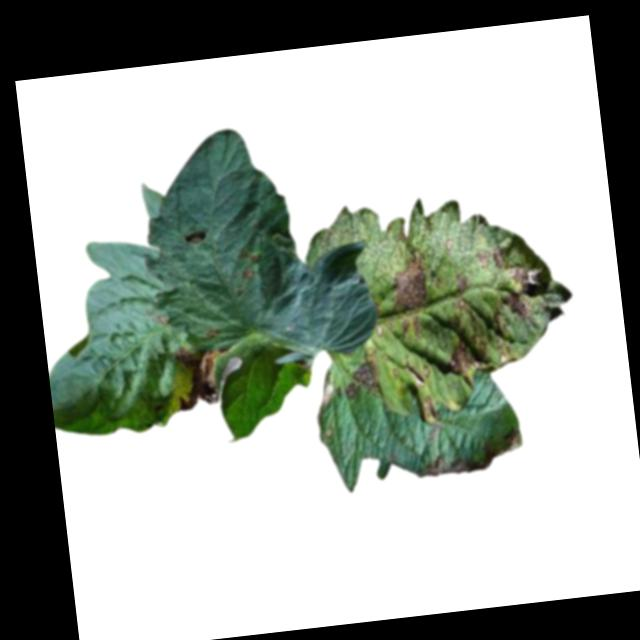Early_blight: (413, 428, 525, 479), (383, 248, 432, 346), (445, 325, 517, 378), (168, 343, 223, 411), (475, 239, 541, 292), (341, 344, 385, 397), (491, 287, 538, 334), (233, 244, 263, 281), (452, 269, 470, 295), (182, 229, 206, 245)
